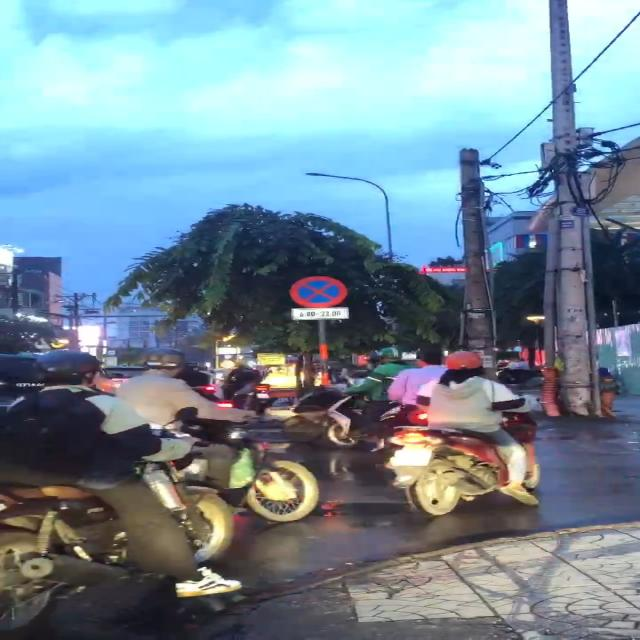Bien bao cam dung xe va do xe: (286, 274, 352, 308)
